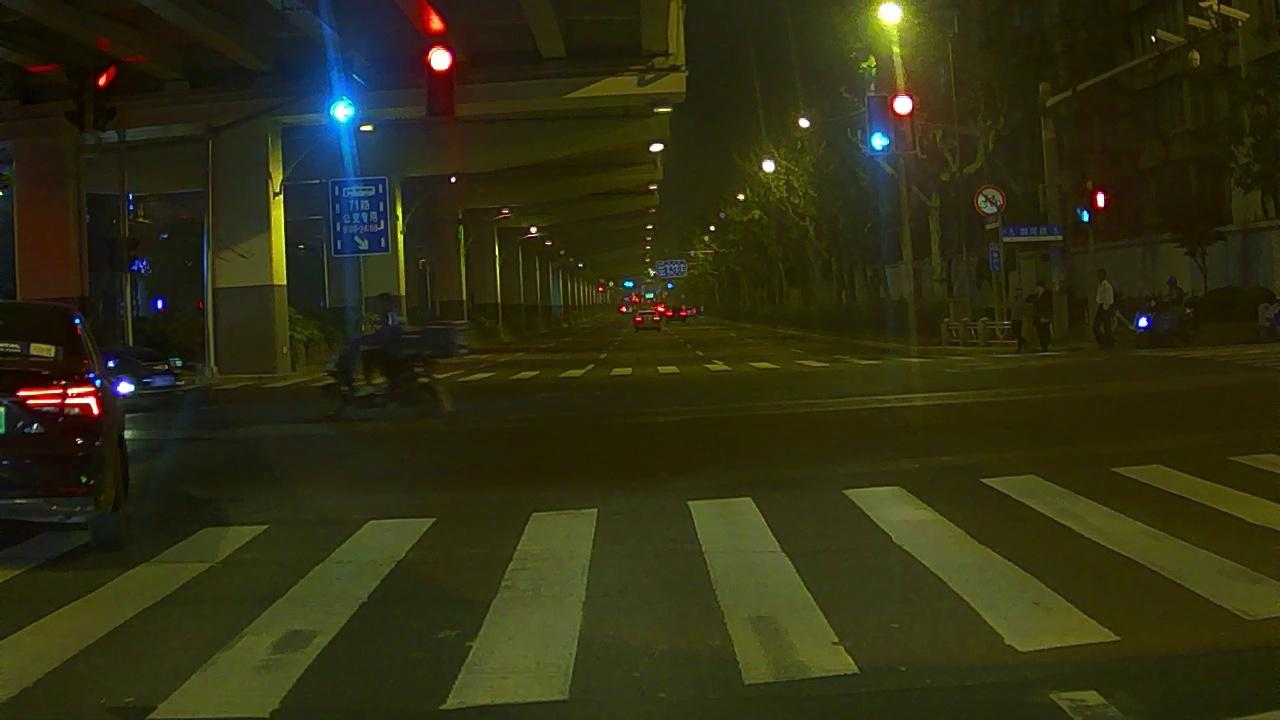traffic_light: (429, 41, 452, 115), (868, 93, 892, 153), (892, 95, 915, 153), (327, 97, 357, 124)
